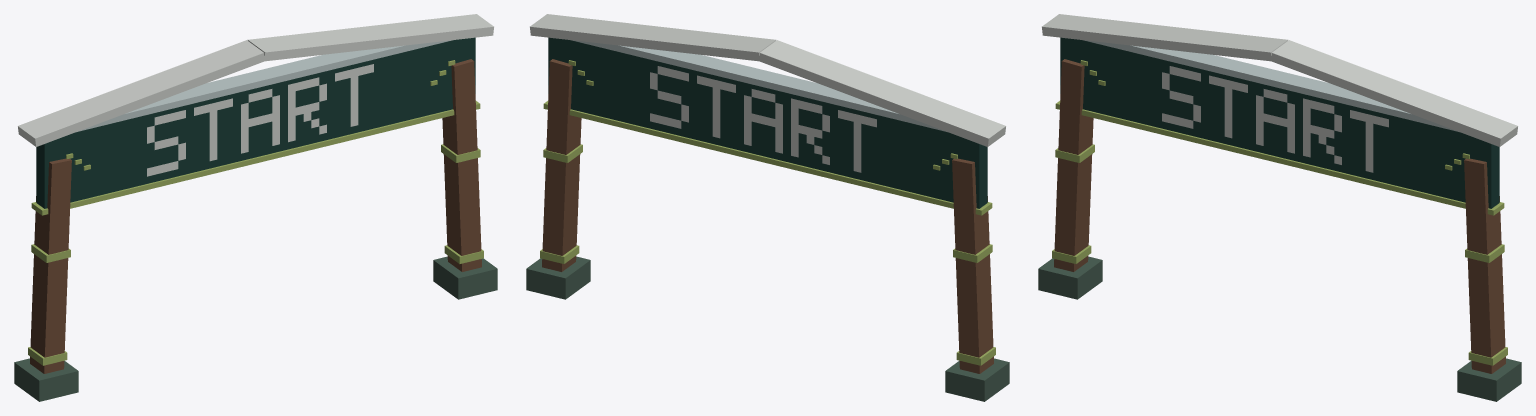
File: start.glb
3 views of the same model, side by side, from view 1: azimuth 30°, elevation 25°; view 2: azimuth 150°, elevation 25°; view 3: azimuth 330°, elevation 25° (orthographic).
Visible parts, largest first — view 1: start; view 2: start; view 3: start.
Boxes of the visible parts, bbox=[...] form: start: bbox=[14, 14, 497, 401]; start: bbox=[526, 14, 1009, 401]; start: bbox=[1038, 14, 1521, 401].
Bounding box in the file's own units: 9.9 × 5.99 × 0.94.
